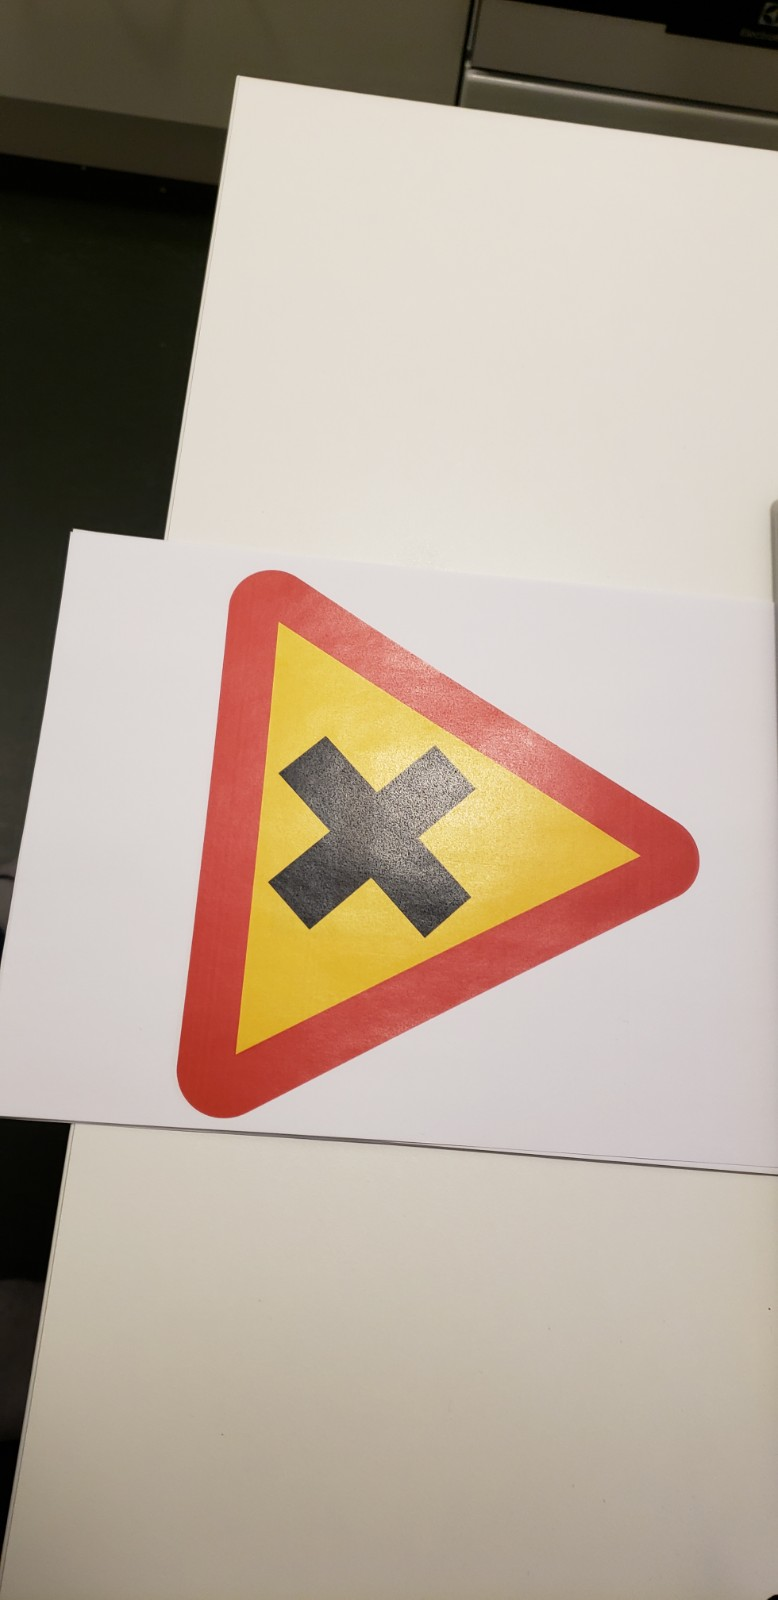junction: (203, 556, 728, 1172)
